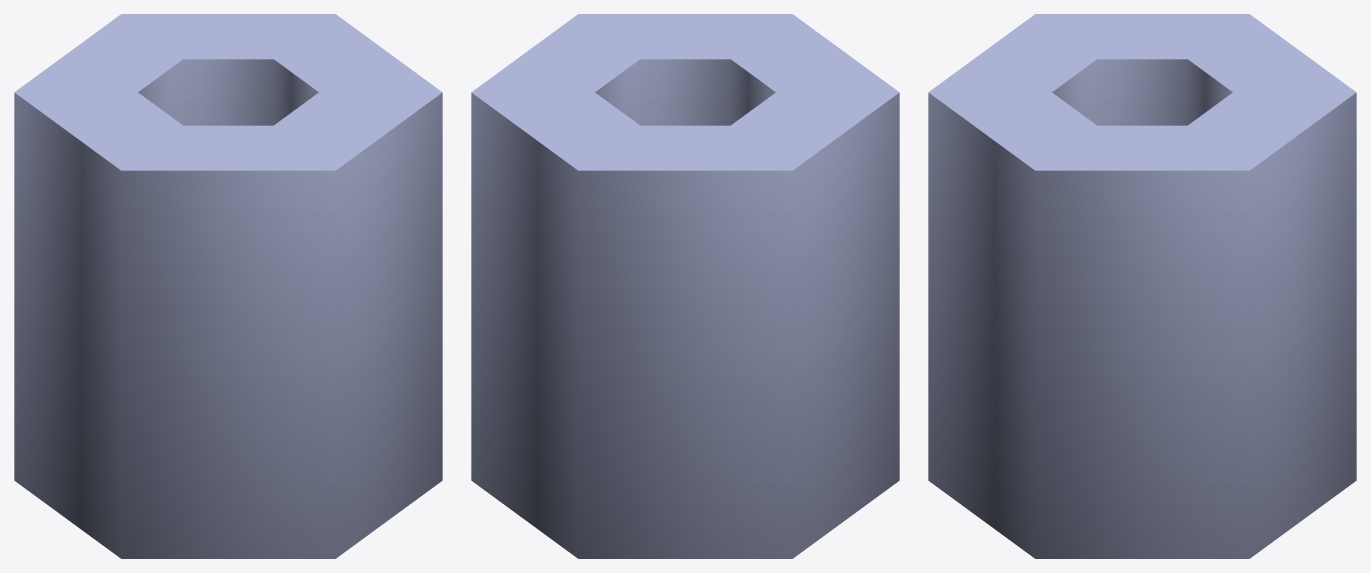
File: shape-hollow-hexagon.fbx
3 renders of one model, left to right at view 1: azimuth 30°, elevation 25°; view 2: azimuth 150°, elevation 25°; view 3: azimuth 270°, elevation 25°, orthographic.
Visible parts, largest first — view 1: shape-hollow-hexagon; view 2: shape-hollow-hexagon; view 3: shape-hollow-hexagon.
Boxes of the visible parts, bbox=[...] form: shape-hollow-hexagon: bbox=[14, 14, 442, 558]; shape-hollow-hexagon: bbox=[471, 14, 899, 558]; shape-hollow-hexagon: bbox=[928, 14, 1356, 558].
Bounding box in the file's own units: 86.6 × 100 × 100.
